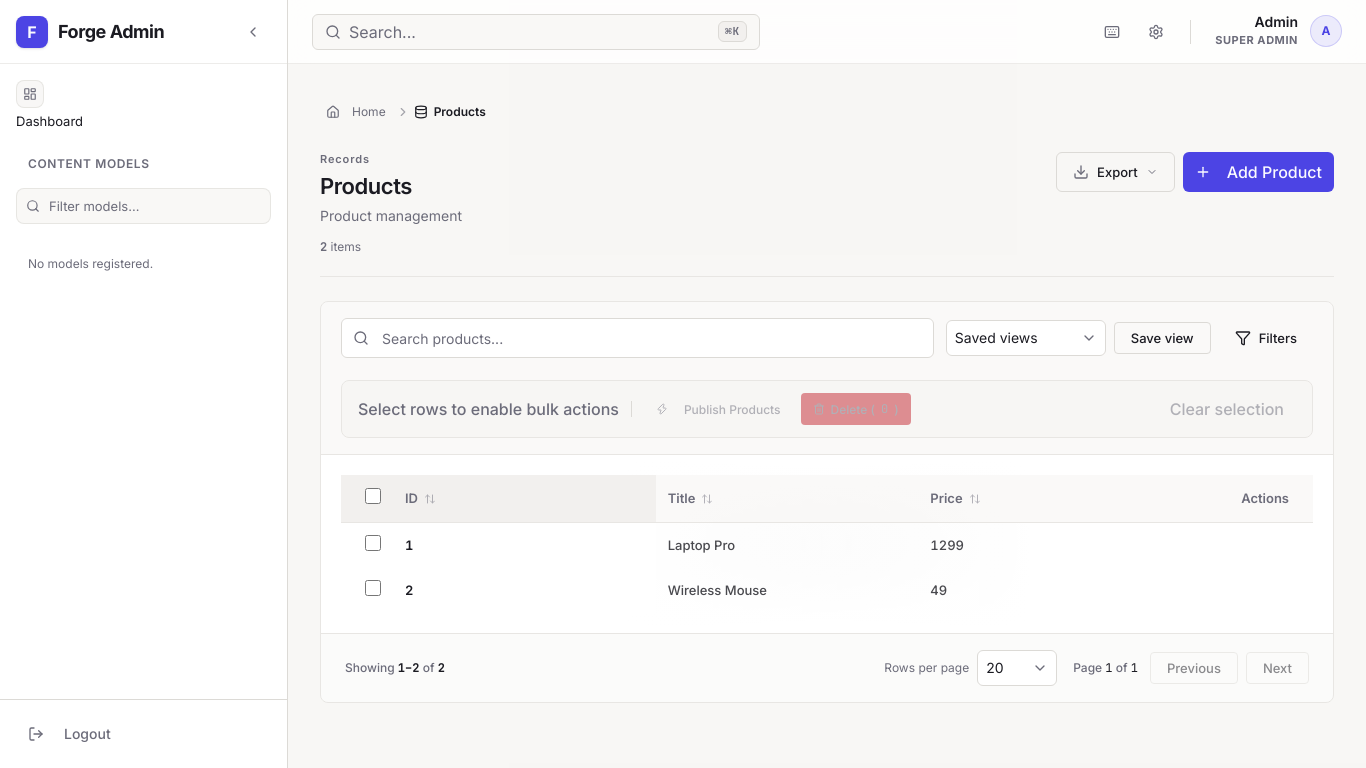
Scenario: ModelListPage › clears the search input via the clear button
Type "lap" into the field with test id "search-input". click: (637, 338)
box: [341, 318, 934, 358]
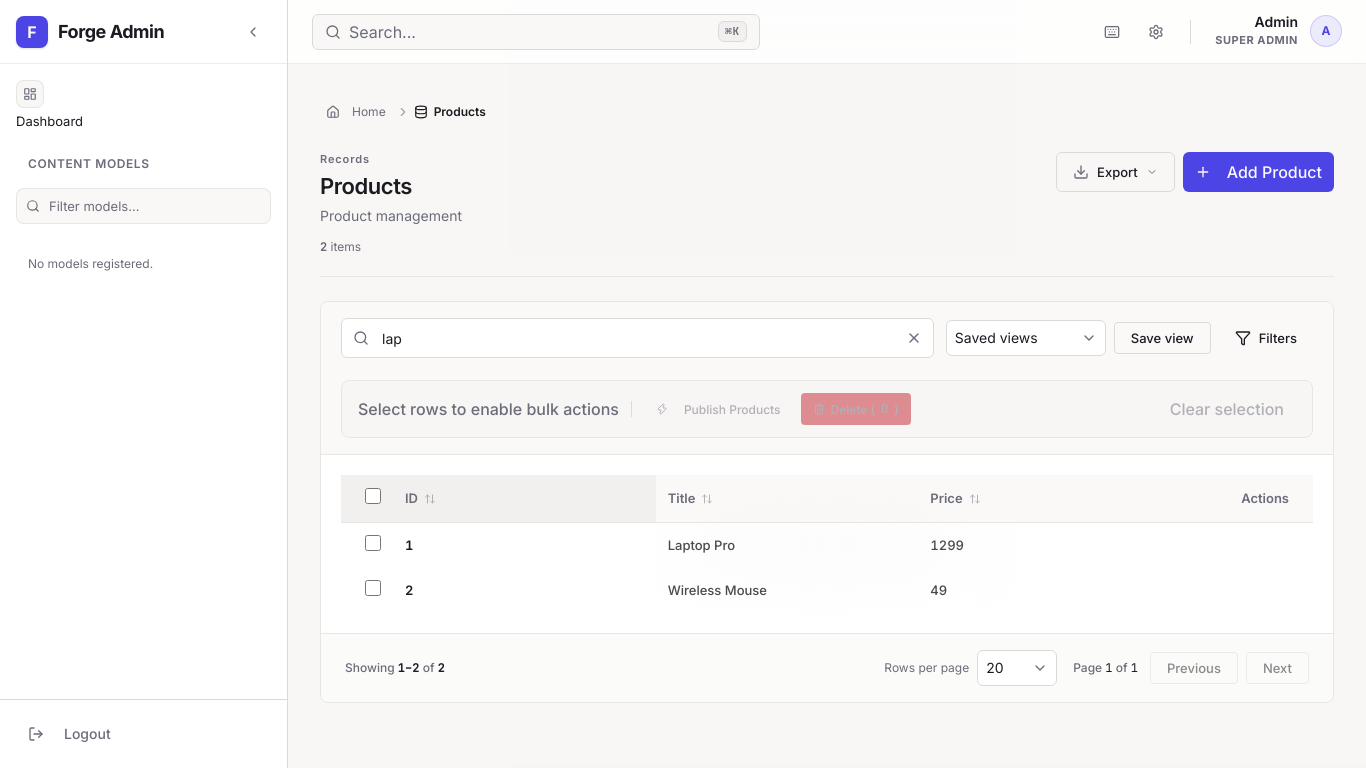
Expected: the button with test id "clear-search" is shown
Click the button with test id "clear-search". click: (914, 338)
box: [902, 326, 926, 350]
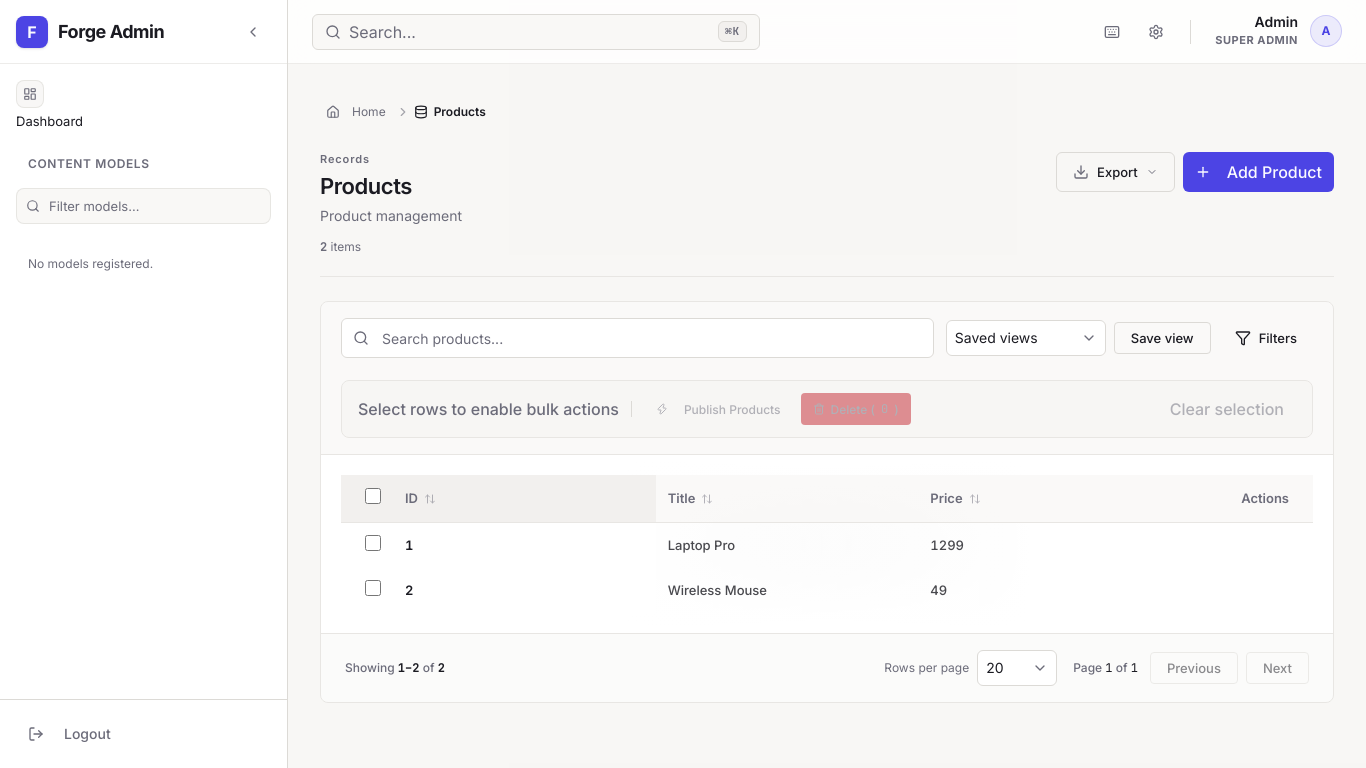
Expected: the field with test id "search-input" is empty, [341, 318, 934, 358]
